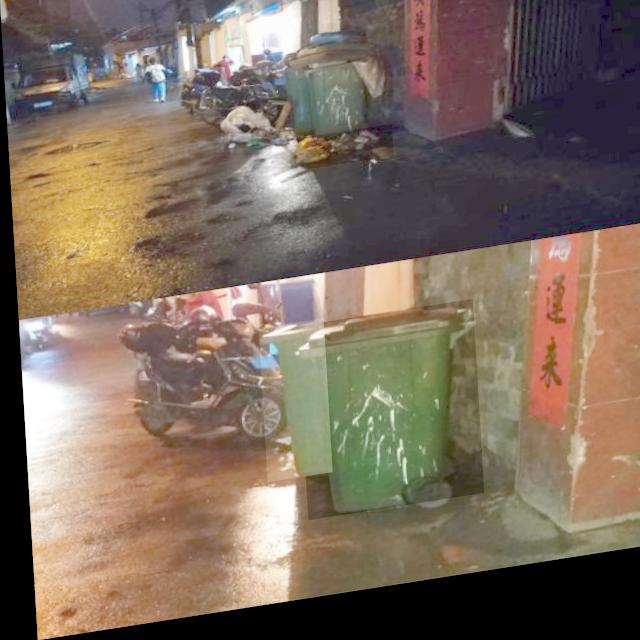garbage: (286, 136, 391, 181), (219, 106, 293, 158)
garbage_bin: (292, 314, 477, 529), (254, 328, 326, 490)
overflow: (282, 36, 383, 151)
